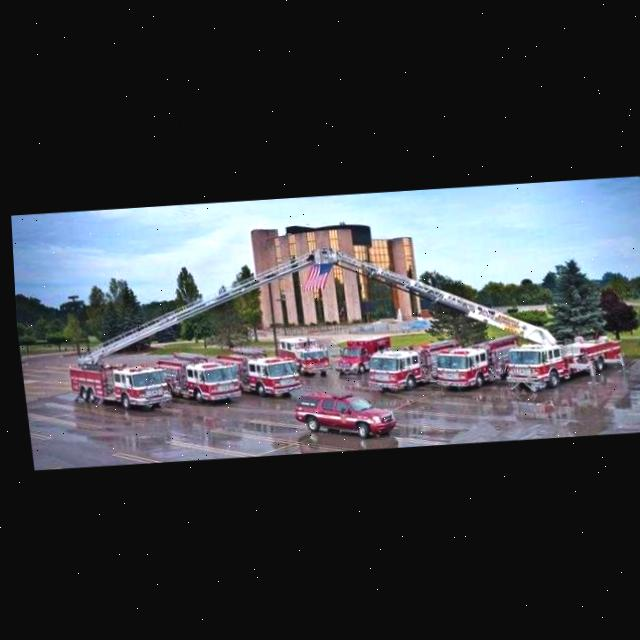emergency: (498, 332, 624, 394), (62, 354, 169, 414), (287, 384, 392, 444), (360, 335, 460, 394), (427, 331, 522, 391), (151, 346, 237, 406), (211, 342, 297, 399), (326, 332, 390, 375), (273, 334, 329, 377)
